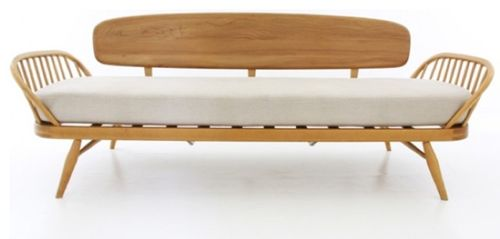chairs: (6, 15, 495, 203)
